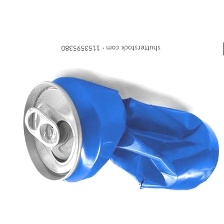can: (17, 71, 221, 196)
